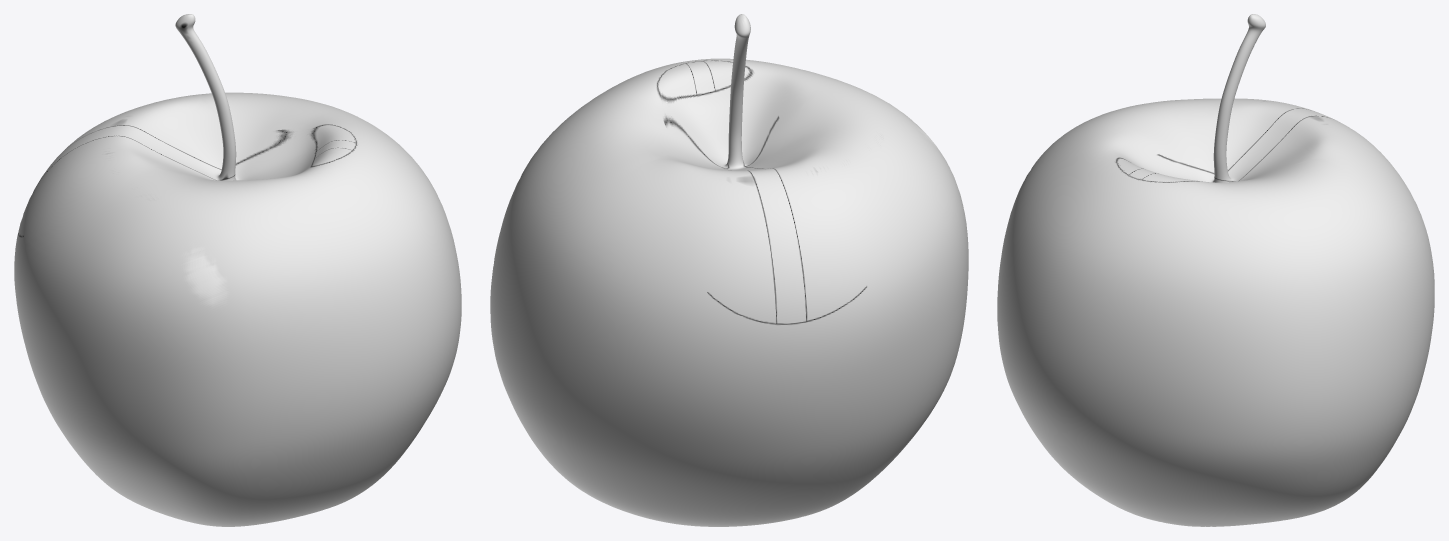
The model's file is apellagi.fbx.
3 views of the same model, side by side, from view 1: azimuth 30°, elevation 25°; view 2: azimuth 150°, elevation 25°; view 3: azimuth 270°, elevation 25° (orthographic). The views are drawn at different scales.
Visible parts, largest first — view 1: 10162_Apple_v1; view 2: 10162_Apple_v1; view 3: 10162_Apple_v1.
Part boxes in pixels (x1,y1,x2,y2): 10162_Apple_v1: (14, 14, 461, 526); 10162_Apple_v1: (490, 14, 968, 526); 10162_Apple_v1: (997, 14, 1434, 526).
Size of the model in its own units: 271 by 320 by 271.
